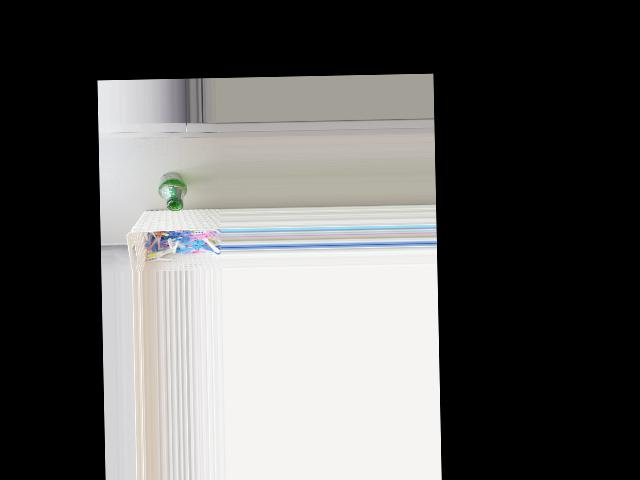beer: (157, 171, 187, 211)
